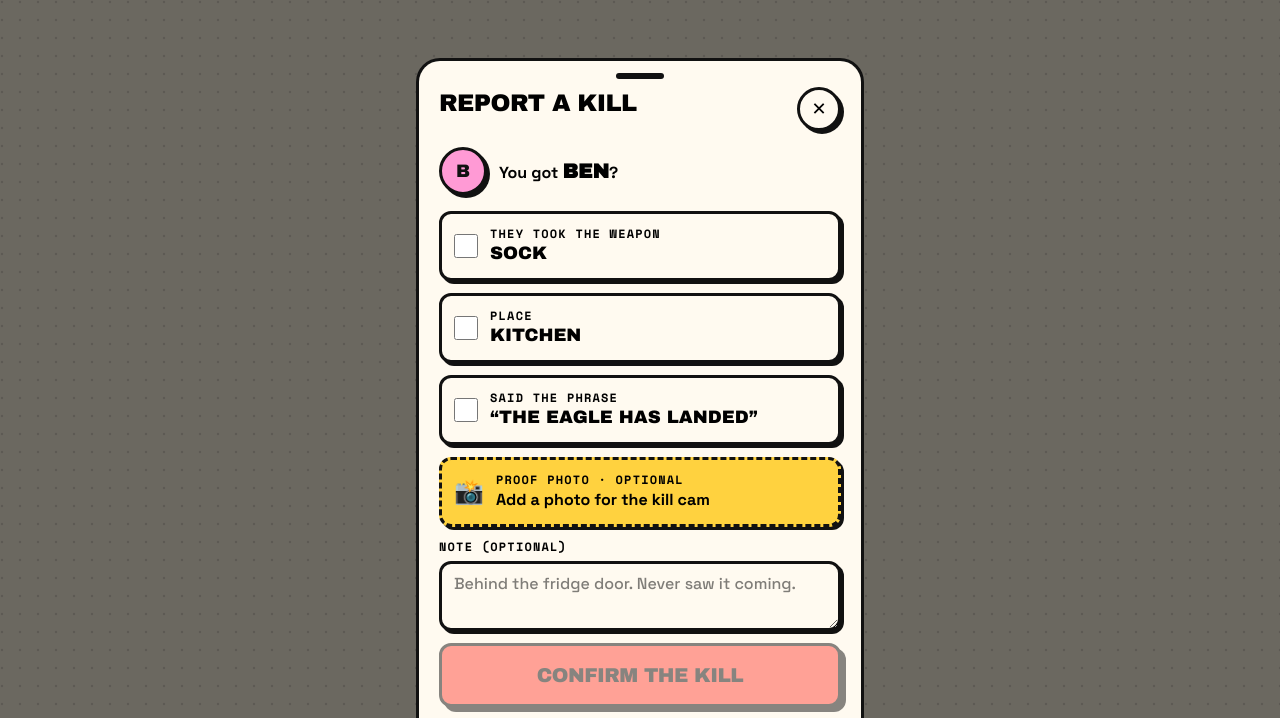
Test: ReportKillSheet › needs the weapon, place and phrase ticked before you can confirm
This screenshot has width=1280, height=718.
Expected: the button "Confirm the kill" is disabled, [439, 643, 841, 707]
Click the checkbox labelled "They took the weapon Sock".
click(466, 246)  # box [454, 234, 478, 258]
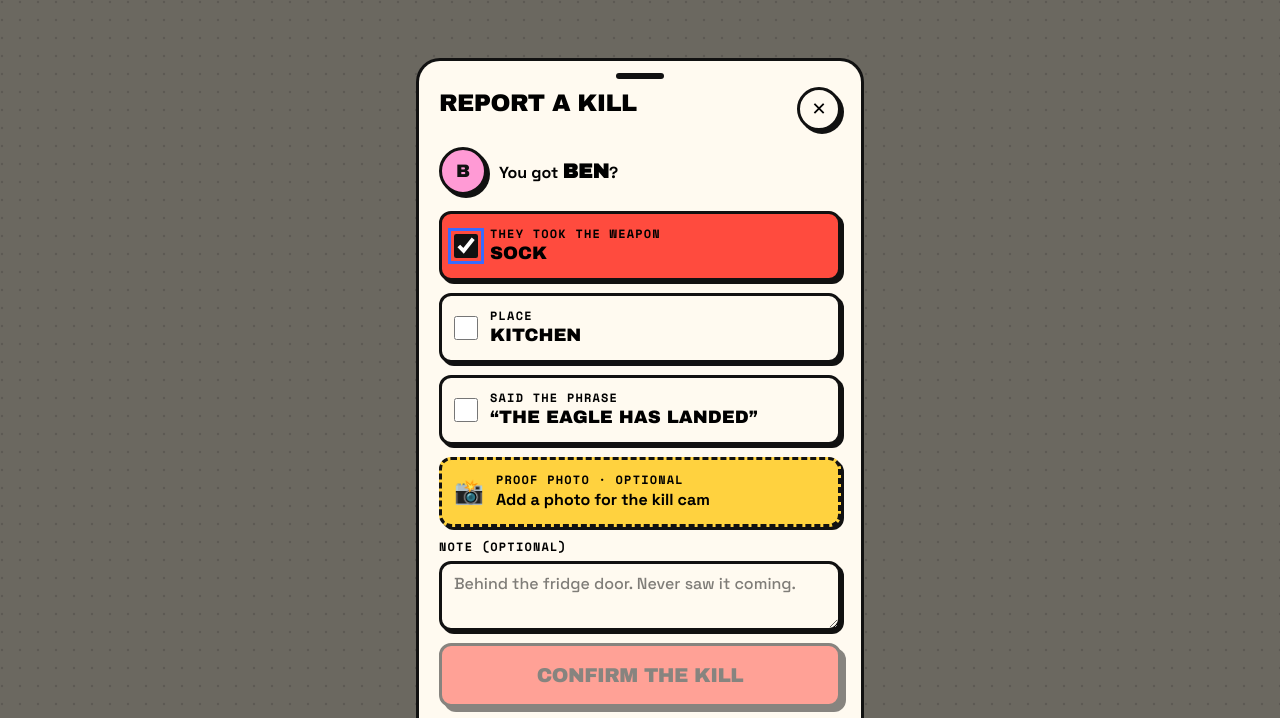
Expected: the button "Confirm the kill" is disabled, [439, 643, 841, 707]
Click the checkbox labelled "Place Kitchen".
click(466, 328)  # box [454, 316, 478, 340]
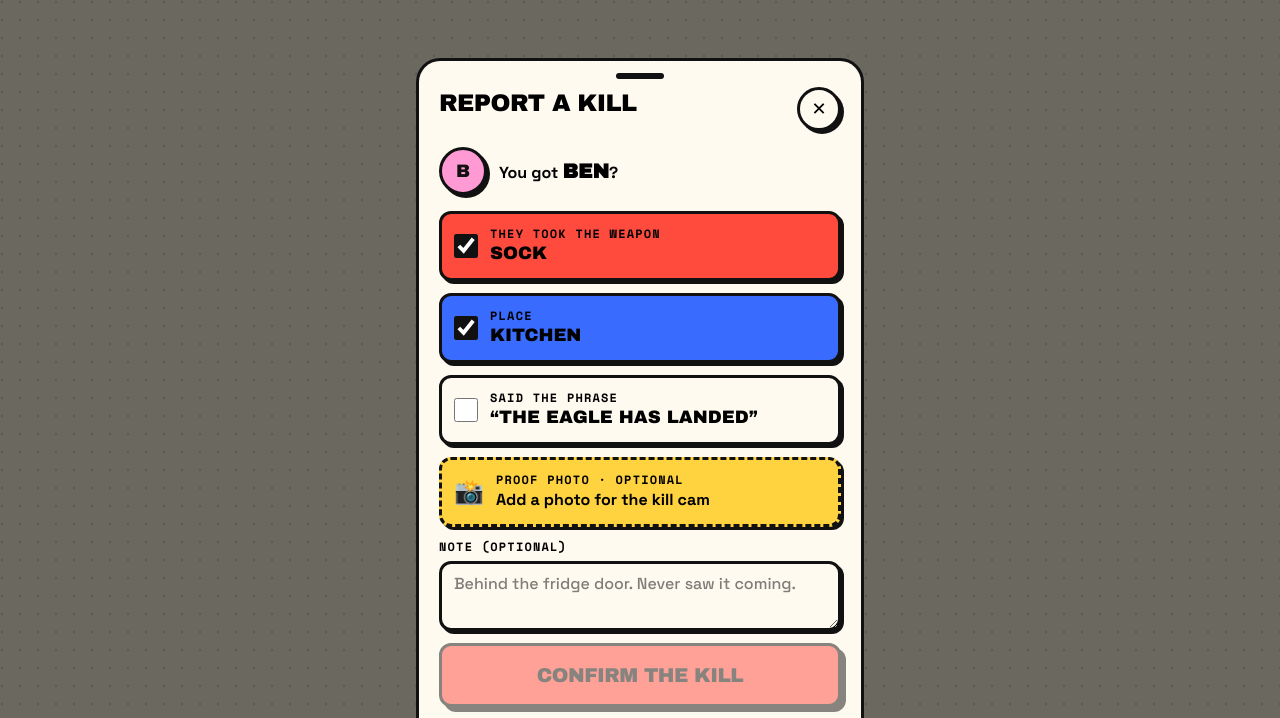
Expected: the button "Confirm the kill" is disabled, [439, 643, 841, 707]
Click the checkbox labelled "Said the phrase “The eagle has landed”".
click(466, 410)  # box [454, 398, 478, 422]
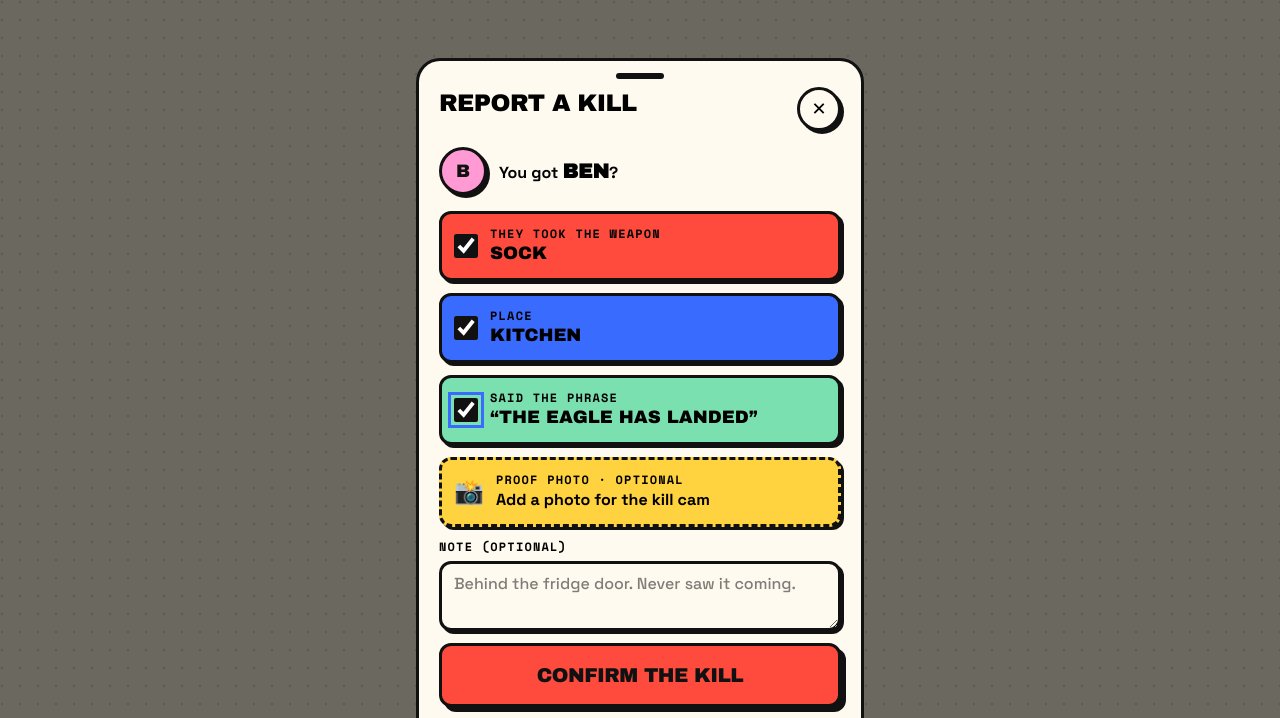
Now the button "Confirm the kill" is enabled, box [439, 643, 841, 707]
